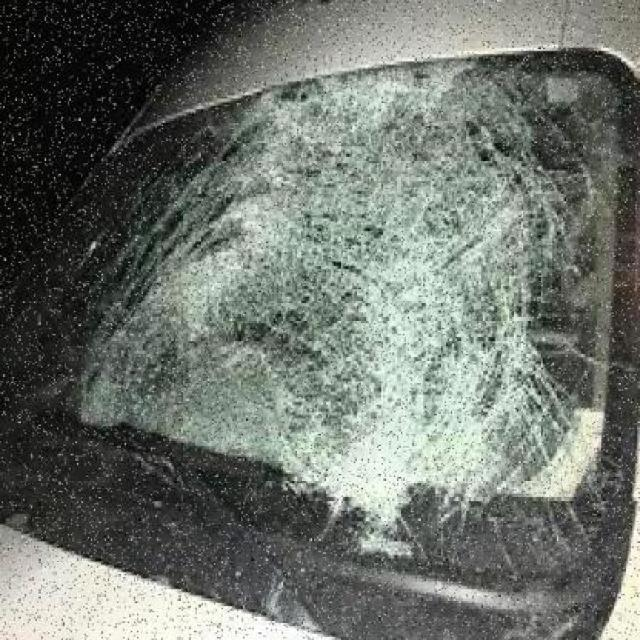Front-Windscreen-Damage: (0, 28, 638, 621)
